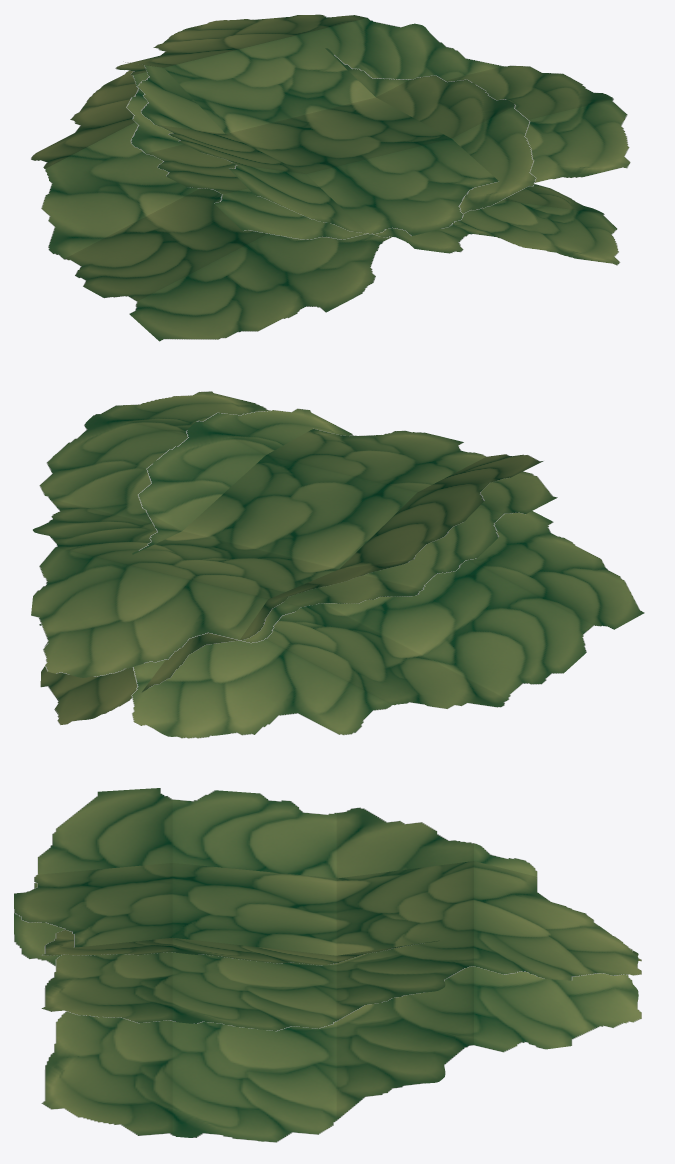
File: Overgrowth1_good.fbx
3 views of the same model, one above another, from view 1: azimuth 30°, elevation 25°; view 2: azimuth 150°, elevation 25°; view 3: azimuth 270°, elevation 25° (orthographic). The views are drawn at different scales.
Parts seen in each view (by area): view 1: polySurface1; view 2: polySurface1; view 3: polySurface1.
Part boxes in pixels (<box>): polySurface1: <box>31,14,630,341</box>; polySurface1: <box>31,391,644,738</box>; polySurface1: <box>14,788,641,1142</box>.
Size of the model in its own units: 81.2 by 25.21 by 87.73.
